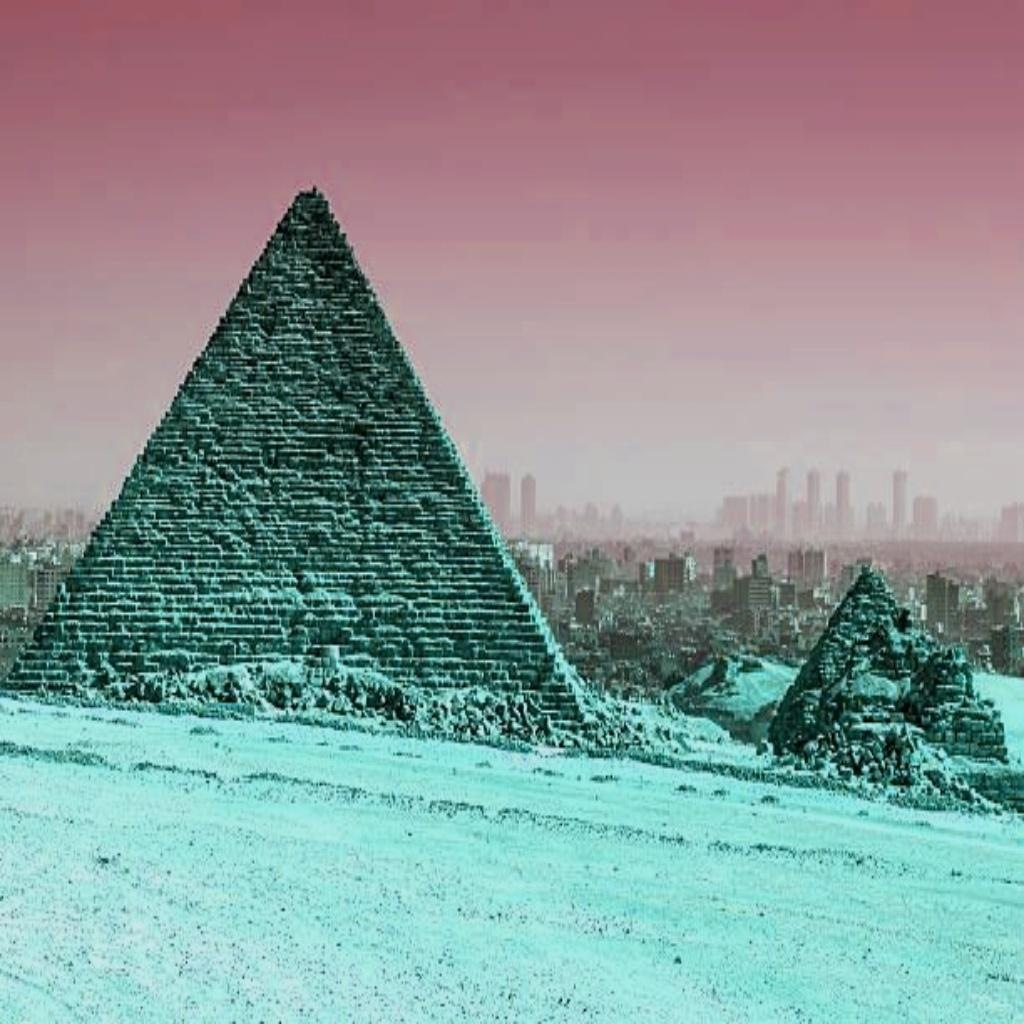Great Pyramids of Giza: (2, 181, 618, 758)
